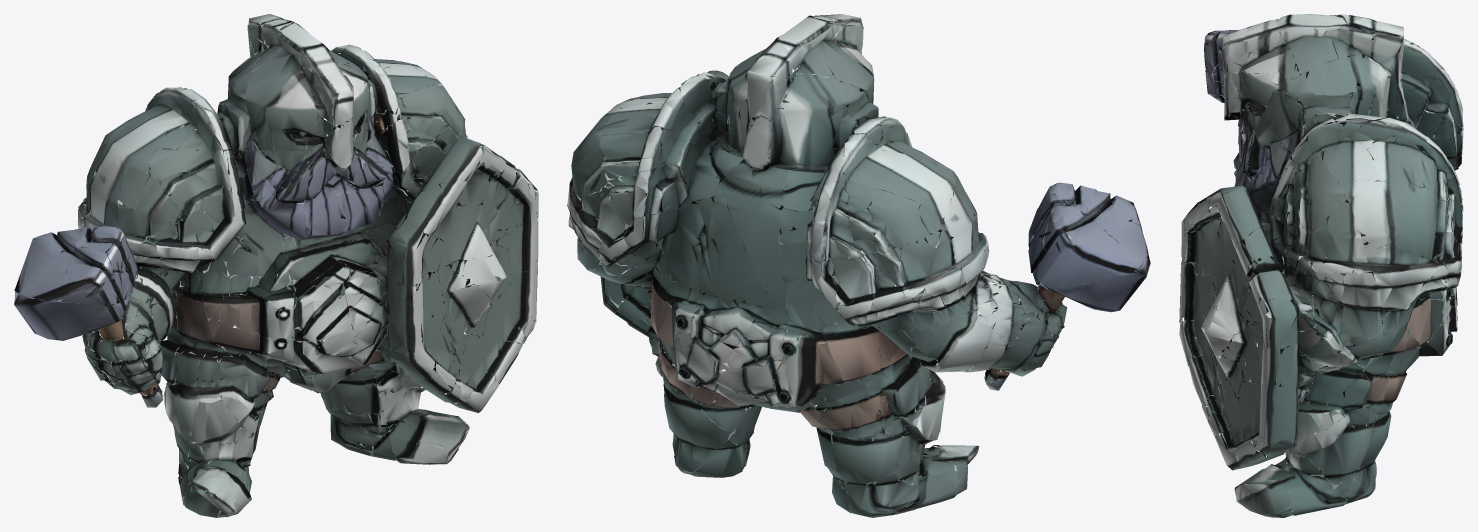
Rendered from warden.glb.
3 views of the same model, side by side, from view 1: azimuth 30°, elevation 25°; view 2: azimuth 150°, elevation 25°; view 3: azimuth 270°, elevation 25° (orthographic). The views are drawn at different scales.
Parts seen in each view (by area): view 1: Mesh_0; view 2: Mesh_0; view 3: Mesh_0.
Part boxes in pixels (x1,y1,x2,y2): Mesh_0: (14,14,538,517); Mesh_0: (567,14,1150,517); Mesh_0: (1179,14,1463,517).
Size of the model in its own units: 1.65 by 1.3 by 0.7699.
1 material, 1 textured.
